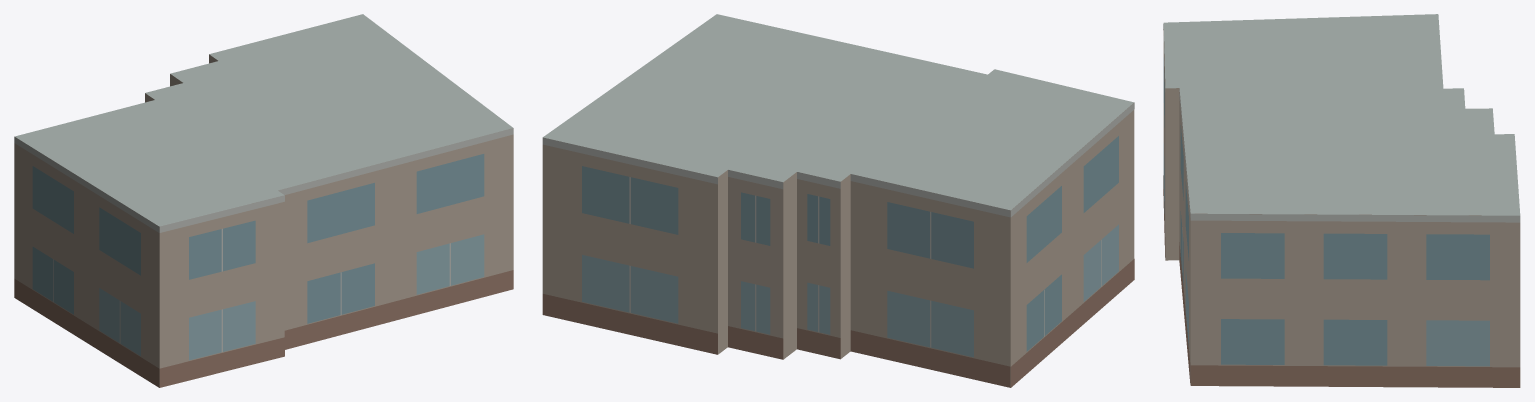
Rendered from survey-upis-32839798.glb.
3 views of the same model, side by side, from view 1: azimuth 30°, elevation 25°; view 2: azimuth 150°, elevation 25°; view 3: azimuth 270°, elevation 25° (orthographic). The views are drawn at different scales.
Parts seen in each view (by area): view 1: survey-upis-32839798.tmp; view 2: survey-upis-32839798.tmp; view 3: survey-upis-32839798.tmp.
Part boxes in pixels (left/top/right/bottom): survey-upis-32839798.tmp: left=14, top=14, right=513, bottom=387; survey-upis-32839798.tmp: left=542, top=14, right=1134, bottom=387; survey-upis-32839798.tmp: left=1163, top=14, right=1520, bottom=387.
Bounding box in the file's own units: 15.33 × 6.1 × 11.46.
